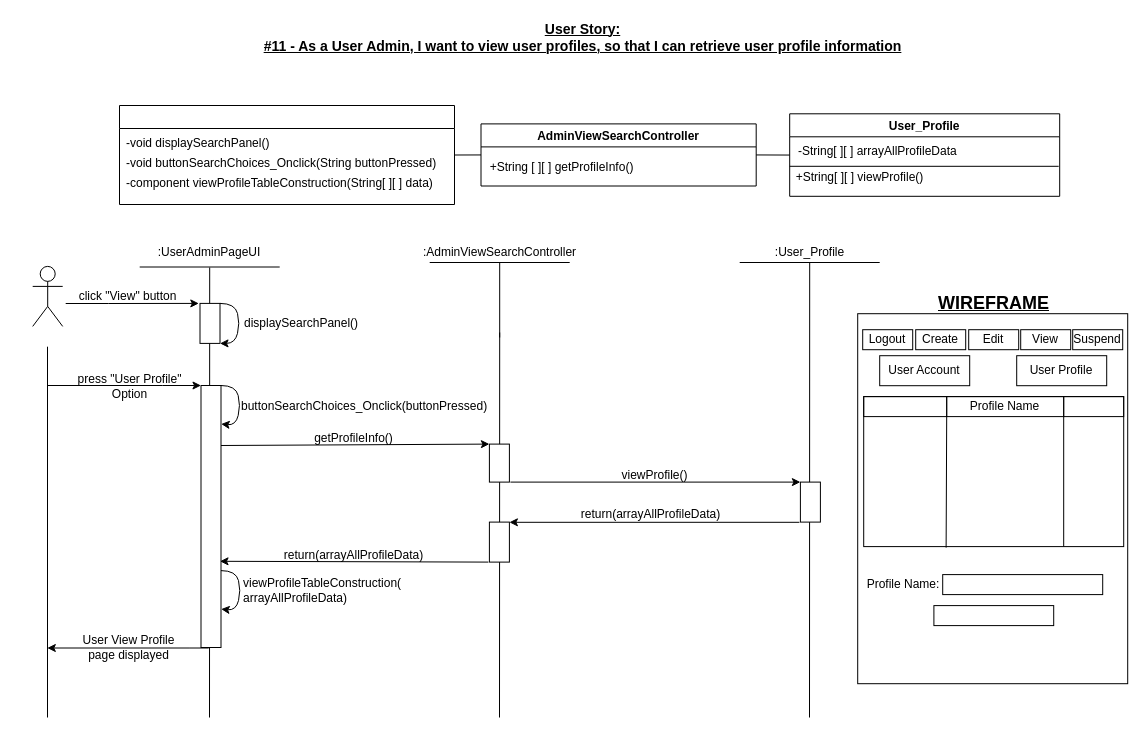
The diagram is 1146 pixels wide and 736 high, and some of its shapes have lost their labels. The box of each missing label's shape, as (x1, y1, x2, y2) in pixels:
Active: (1063, 396, 1124, 417)
Profile ID: (863, 396, 947, 417)
Search by Profile Name: (933, 605, 1054, 626)
User Admin: (32, 265, 63, 326)
UserAdminPageUI: (118, 104, 454, 204)
